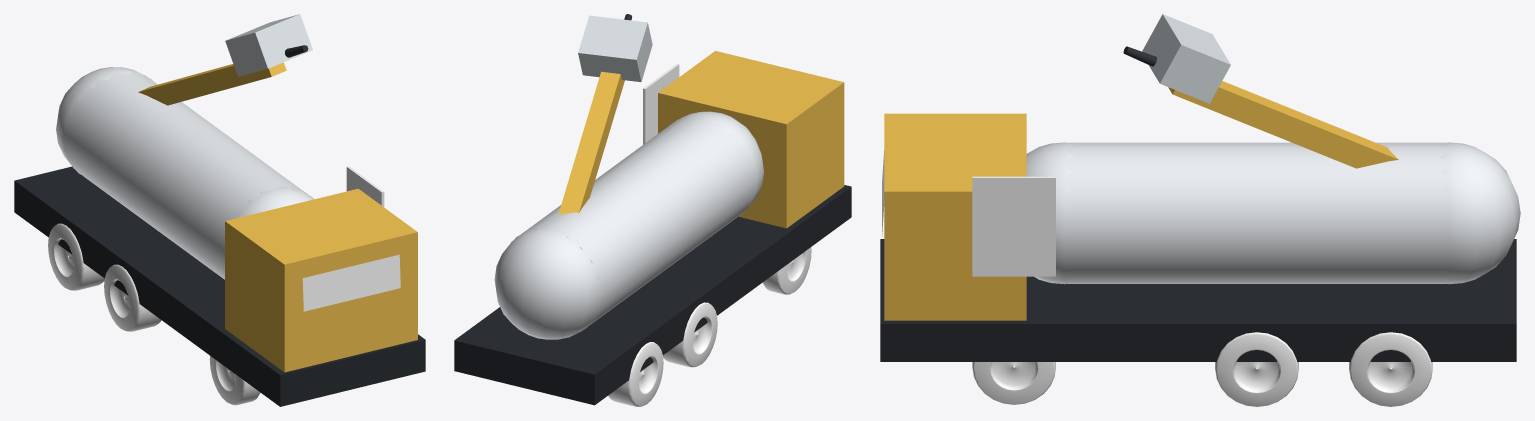
The model's file is equipment--deicingTruck.glb.
3 renders of one model, left to right at view 1: azimuth 30°, elevation 25°; view 2: azimuth 150°, elevation 25°; view 3: azimuth 270°, elevation 25°, orthographic. The views are drawn at different scales.
Visible parts, largest first — view 1: deicingTruck:shell, basket, boomArm, wheelsM, wheelsR, wheelsF, cabDoor; view 2: deicingTruck:shell, basket, boomArm, wheelsM, wheelsR, cabDoor, wheelsF; view 3: deicingTruck:shell, cabDoor, boomArm, basket, wheelsR, wheelsM, wheelsF.
Boxes of the visible parts, x1,y1,x2,y2 form: deicingTruck:shell: (14, 67, 425, 406); basket: (225, 14, 312, 76); boomArm: (138, 62, 286, 105); wheelsM: (104, 264, 161, 331); wheelsR: (48, 223, 104, 290); wheelsF: (209, 356, 260, 405); cabDoor: (346, 166, 384, 206); deicingTruck:shell: (454, 51, 851, 405); basket: (578, 14, 652, 81); boomArm: (558, 71, 624, 214); wheelsM: (663, 302, 717, 367); wheelsR: (608, 342, 663, 406); cabDoor: (643, 64, 679, 144); wheelsF: (762, 247, 811, 294); deicingTruck:shell: (880, 113, 1520, 361); cabDoor: (972, 176, 1055, 276); boomArm: (1168, 81, 1398, 168); basket: (1123, 14, 1230, 103); wheelsR: (1349, 332, 1432, 406); wheelsM: (1215, 332, 1298, 406); wheelsF: (972, 362, 1055, 404).
Size of the model in its own units: 2.52 by 4.78 by 7.65.
